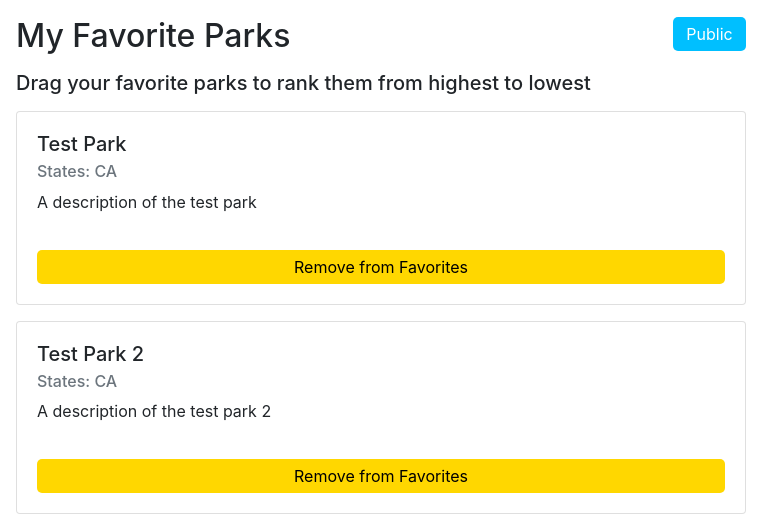
Scenario: Favorites components tests › publicity button toggles from Public to Private
expect the heading "My Favorite Parks" is shown: met, box x1=16 y1=17 x2=290 y2=55
What coordinates should you click on to do the following:
click the button with test id "publicity-button"
I would click on:
 (710, 34)
Its box is x1=673 y1=17 x2=746 y2=51.
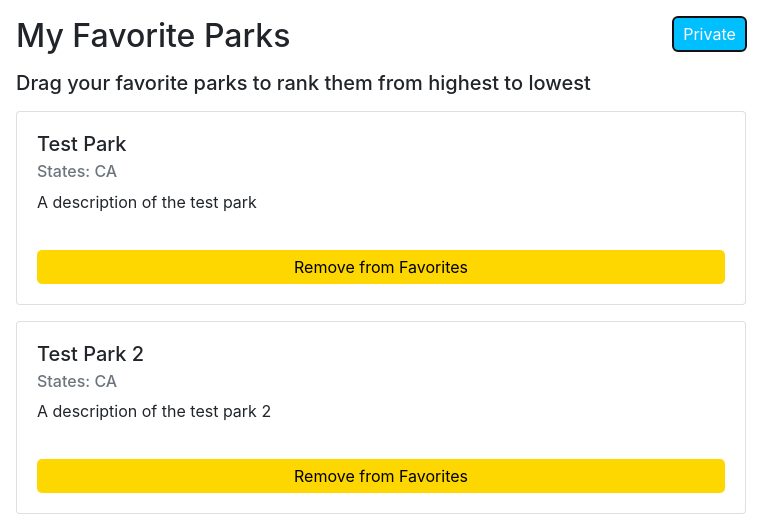
expect the button "Private" is shown: met, box x1=673 y1=17 x2=746 y2=51
